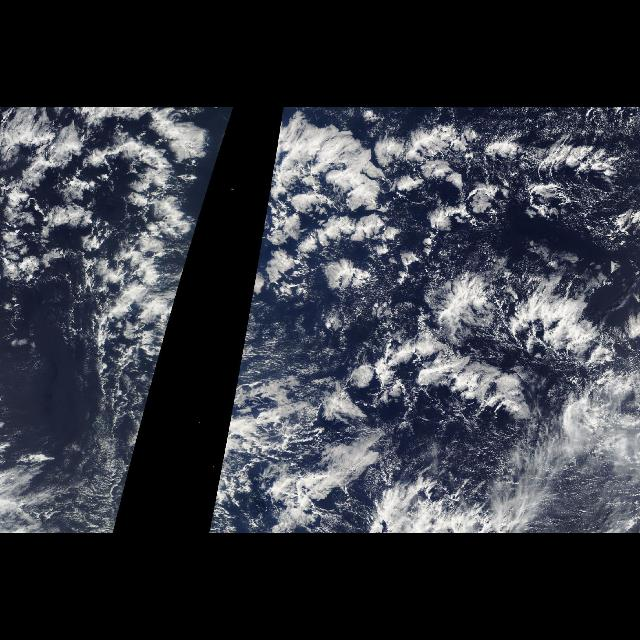Fish: (322, 259, 640, 471)
Flower: (4, 112, 188, 382)
